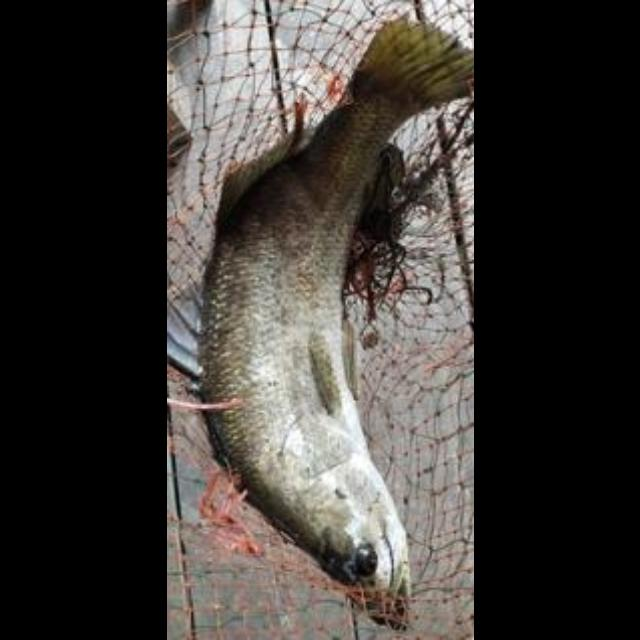Seabass: (166, 15, 472, 630)
